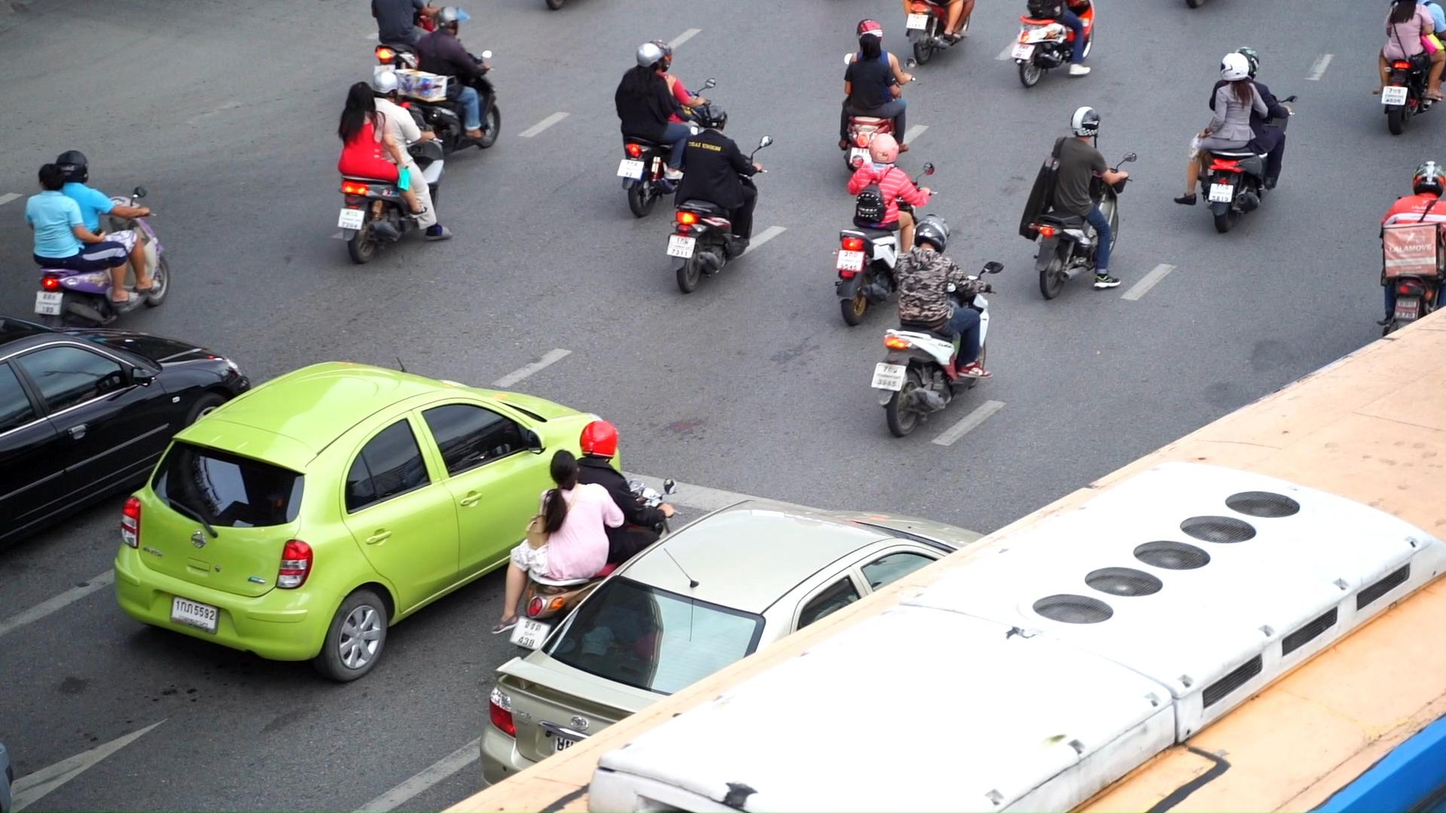driver: (491, 419, 682, 652), (870, 212, 1004, 436), (25, 151, 170, 328), (330, 71, 454, 265), (1173, 45, 1298, 233), (1020, 106, 1136, 300), (832, 133, 938, 327), (667, 104, 773, 294), (615, 39, 716, 217), (393, 5, 501, 155), (1376, 160, 1446, 337), (838, 18, 917, 172), (1373, 0, 1446, 135), (1011, 0, 1095, 88)
helmet: (579, 421, 617, 463), (913, 213, 951, 255), (1412, 160, 1446, 198), (55, 151, 89, 183), (373, 70, 405, 104), (868, 133, 900, 164), (1070, 106, 1101, 138), (438, 6, 470, 36), (1233, 46, 1260, 80), (637, 42, 666, 72), (1220, 52, 1249, 82), (648, 39, 671, 72), (701, 105, 728, 132), (856, 19, 883, 44)
no-helmet: (551, 449, 580, 491), (345, 81, 376, 111), (39, 163, 64, 191), (860, 33, 882, 61)
